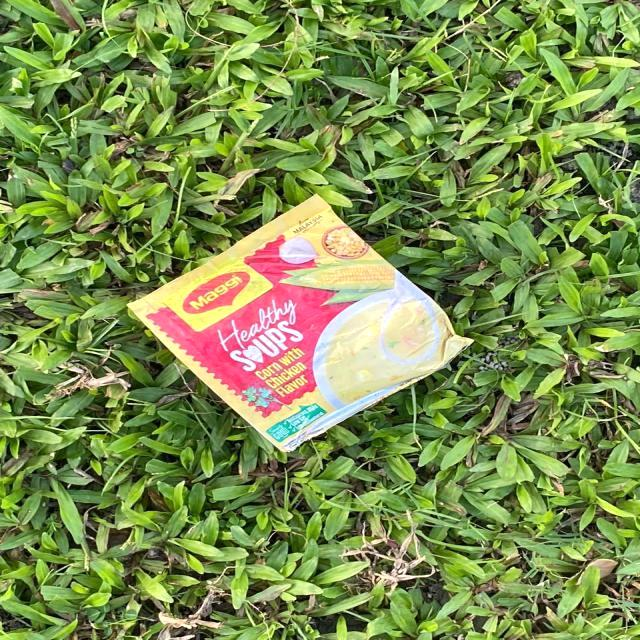packet: (112, 179, 485, 445)
